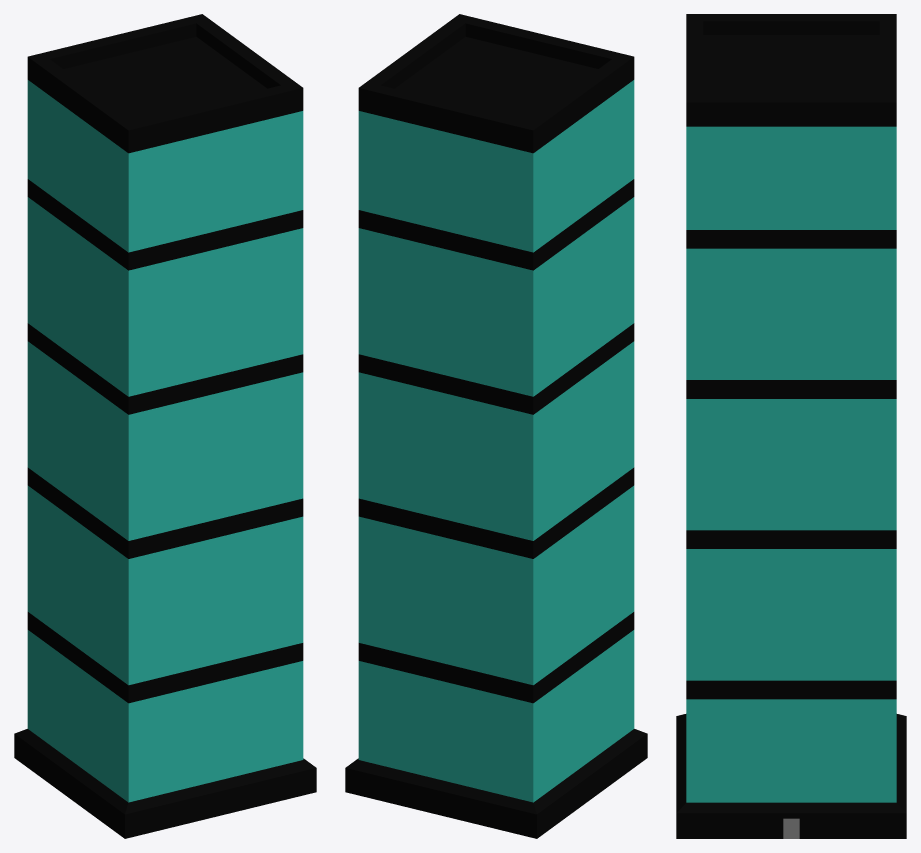
Rendered from Skyscraper1.fbx.
The picture shows the model from 3 angles, left to right: view 1: azimuth 30°, elevation 25°; view 2: azimuth 150°, elevation 25°; view 3: azimuth 270°, elevation 25°; orthographic projection. The views are drawn at different scales.
Parts seen in each view (by area): view 1: Skyscraper1; view 2: Skyscraper1; view 3: Skyscraper1.
Boxes of the visible parts, bbox=[...] form: Skyscraper1: bbox=[14, 14, 316, 838]; Skyscraper1: bbox=[345, 14, 647, 838]; Skyscraper1: bbox=[676, 14, 906, 838].
Size of the model in its own units: 219 by 768 by 219.
